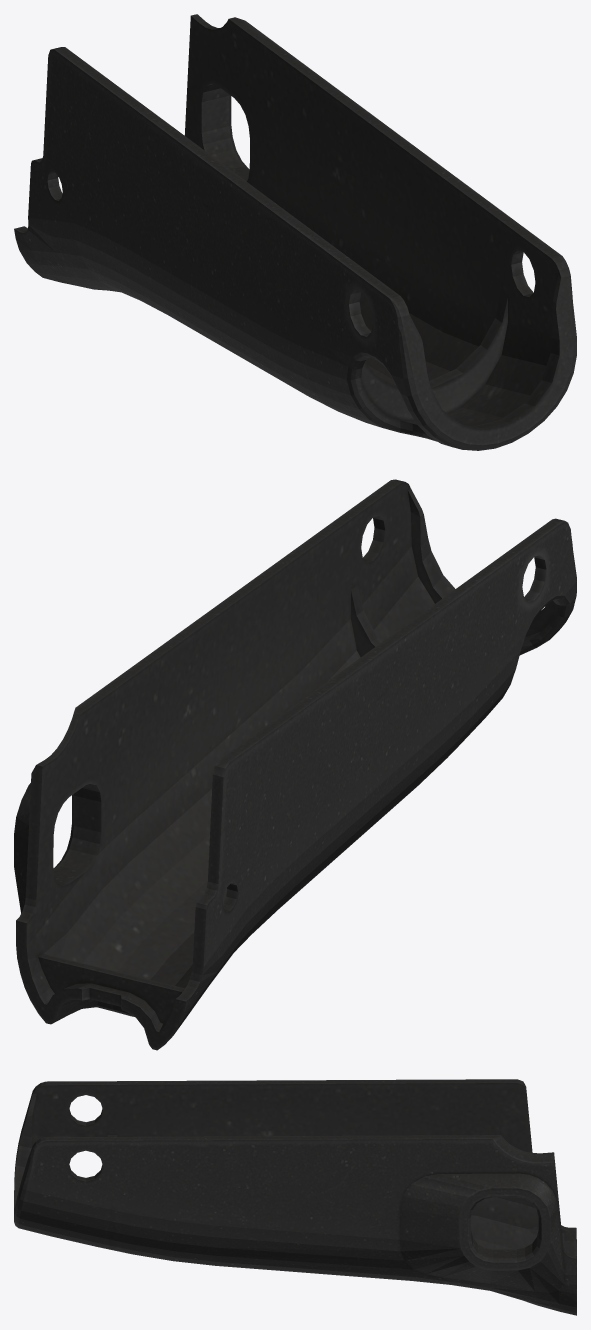
The picture shows the model from 3 angles, top to bottom: view 1: azimuth 30°, elevation 25°; view 2: azimuth 150°, elevation 25°; view 3: azimuth 270°, elevation 25°; orthographic projection. The views are drawn at different scales.
Visible parts, largest first — view 1: TW_618167441cb55961fa0fdc71_PZ_Import; view 2: TW_618167441cb55961fa0fdc71_PZ_Import; view 3: TW_618167441cb55961fa0fdc71_PZ_Import.
Boxes of the visible parts, left/top/right/bottom form: TW_618167441cb55961fa0fdc71_PZ_Import: left=14, top=14, right=576, bottom=450; TW_618167441cb55961fa0fdc71_PZ_Import: left=14, top=479, right=576, bottom=1050; TW_618167441cb55961fa0fdc71_PZ_Import: left=14, top=1079, right=576, bottom=1315.
Bounding box in the file's own units: 0.0223 × 0.0796 × 0.0294.
Materials: 1 (1 with a texture image).
